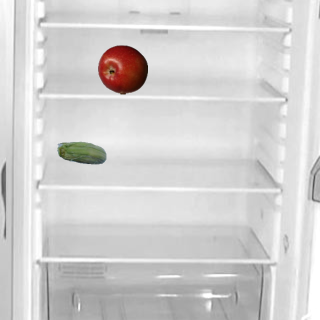Apple Braeburn: (97, 44, 147, 94)
Corn Husk: (56, 129, 106, 179)
